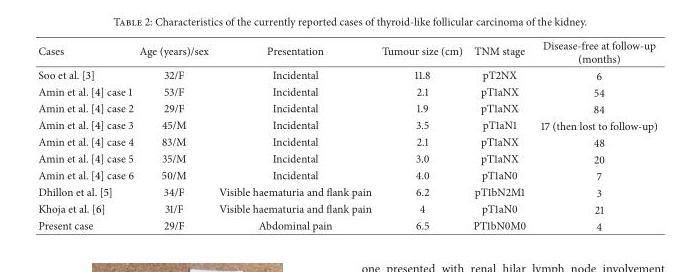table: (37, 37, 656, 233)
table column: (213, 37, 376, 233), (532, 37, 656, 233), (37, 37, 135, 233), (376, 37, 467, 233), (135, 37, 213, 233), (467, 37, 532, 233)
table column header: (37, 37, 656, 66)
table row: (37, 37, 656, 66), (37, 66, 656, 83), (37, 99, 656, 116), (37, 116, 656, 133), (37, 133, 656, 150), (37, 166, 656, 183), (37, 183, 656, 200), (37, 200, 656, 217), (37, 83, 656, 99), (37, 150, 656, 166), (37, 217, 656, 233)
